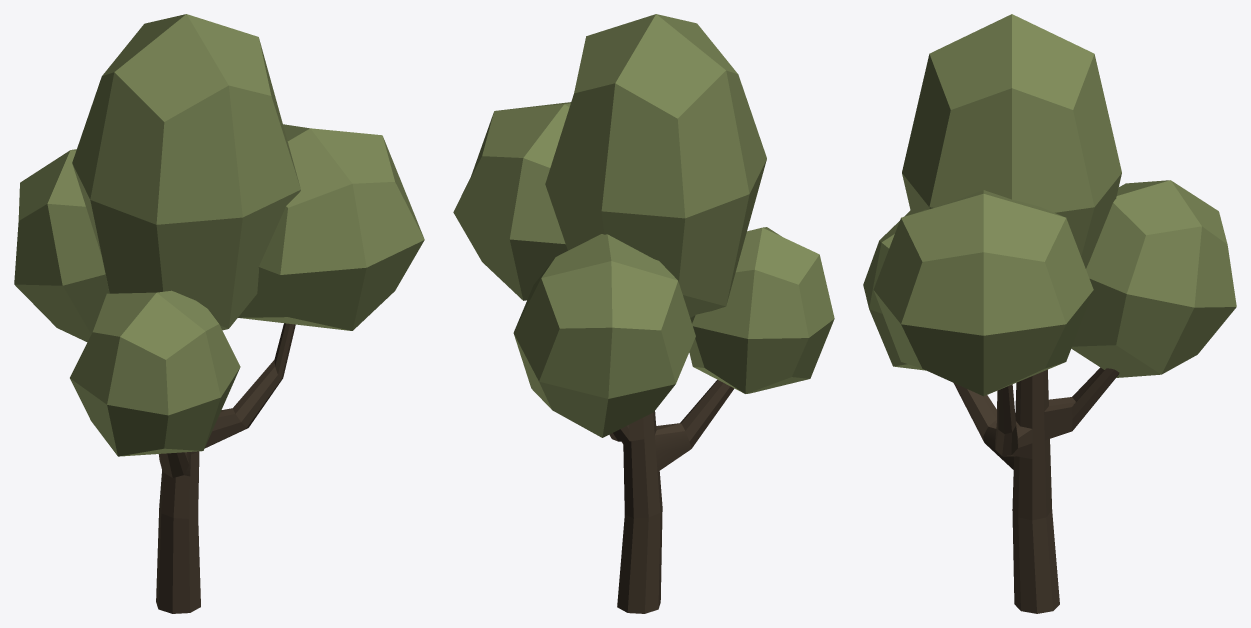
File: TreeGreen.fbx
3 views of the same model, side by side, from view 1: azimuth 30°, elevation 25°; view 2: azimuth 150°, elevation 25°; view 3: azimuth 270°, elevation 25° (orthographic). The views are drawn at different scales.
Visible parts, largest first — view 1: TreeGreen; view 2: TreeGreen; view 3: TreeGreen.
Boxes of the visible parts, left/top/right/bottom form: TreeGreen: left=14, top=14, right=424, bottom=613; TreeGreen: left=453, top=14, right=834, bottom=613; TreeGreen: left=863, top=14, right=1236, bottom=613.
Bounding box in the file's own units: 340 × 569 × 328.
